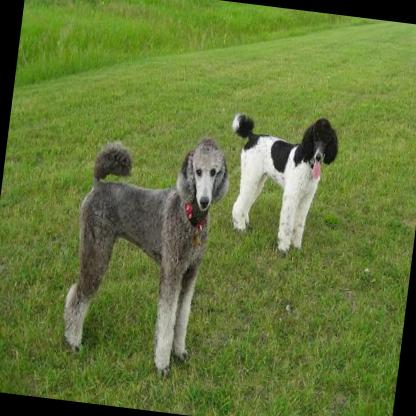standard_poodle: (50, 118, 238, 388), (215, 104, 342, 255)
